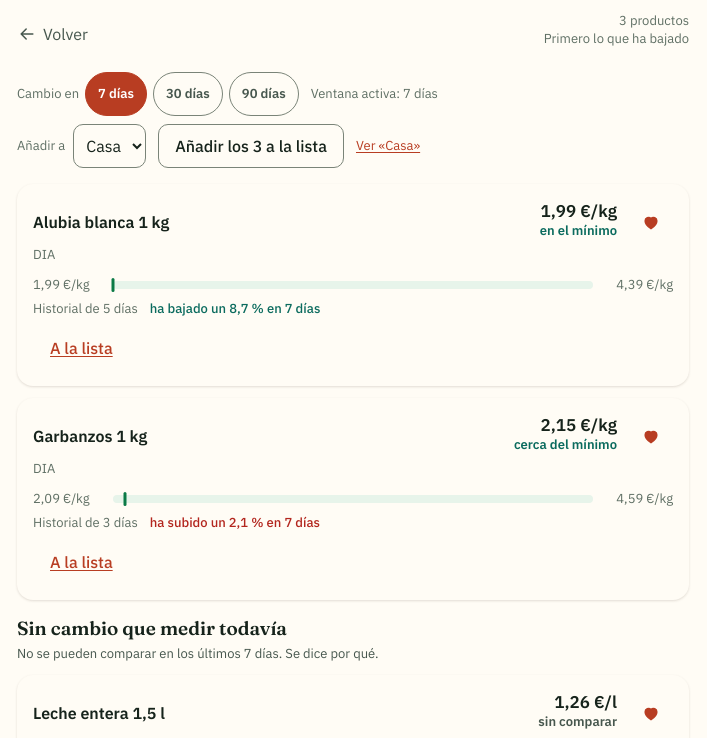
Test: Favoritos · la tarjeta del artboard › *** pasar un favorito a la lista sigue estando ***
Click the button "A la lista" below "ha bajado un 8,7 % en 7 días".
click(81, 348)  # box [33,326,130,370]
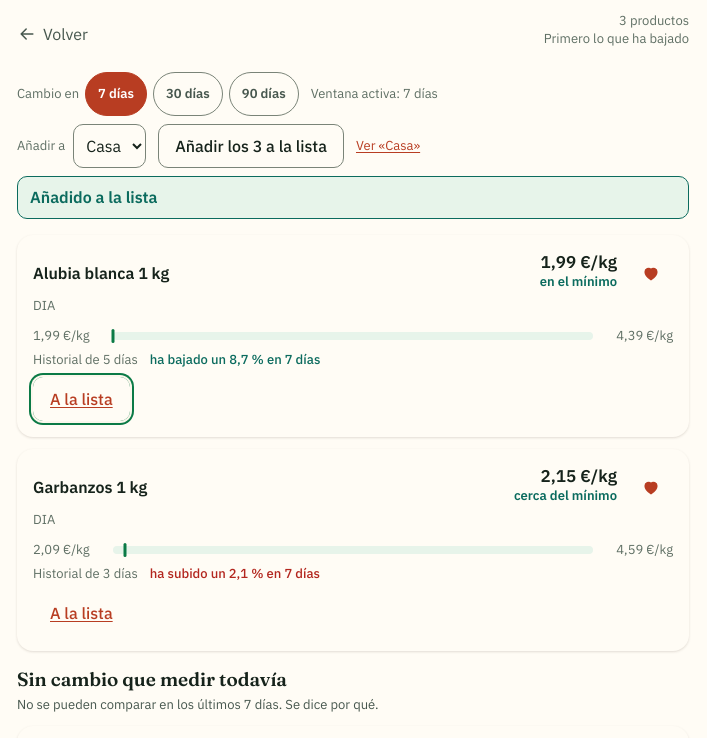
Check: the text "Añadido a la lista" is shown, box [30,187,158,207]
